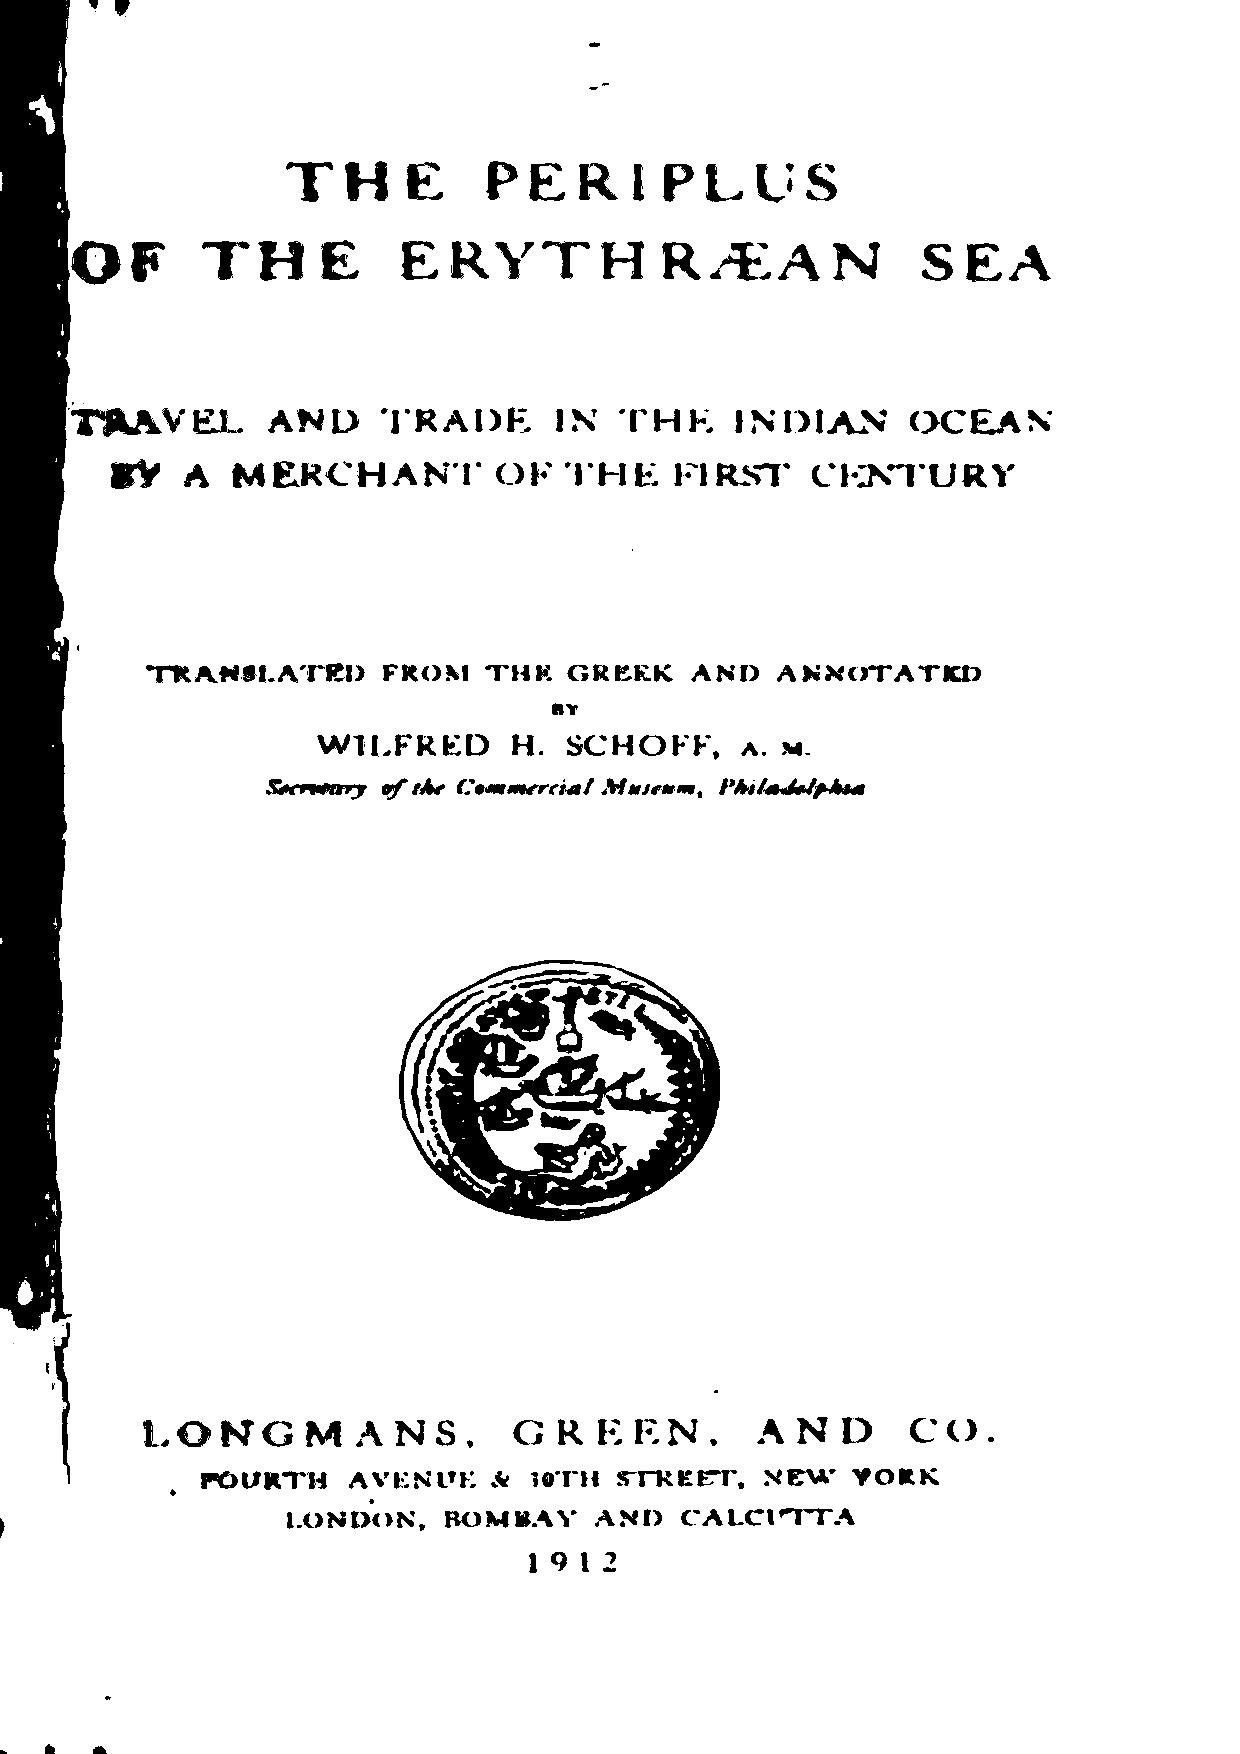author: (309, 701, 808, 758)
title: (68, 158, 1052, 287)
